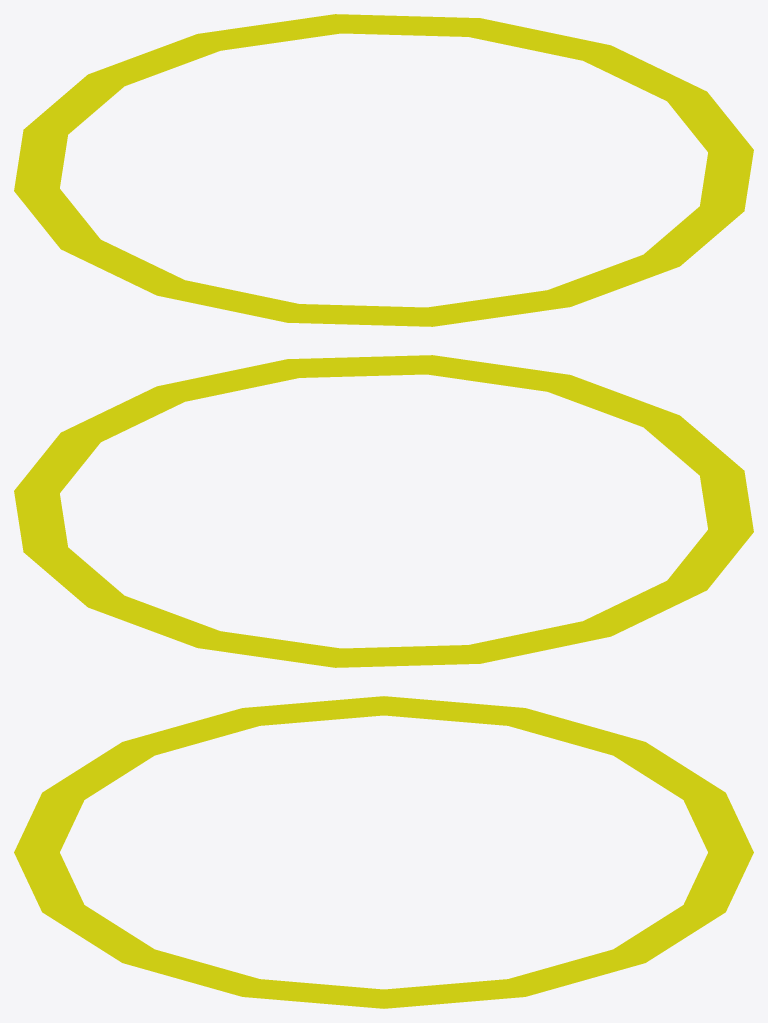
File: interaction_marker.fbx
3 views of the same model, one above another, from view 1: azimuth 30°, elevation 25°; view 2: azimuth 150°, elevation 25°; view 3: azimuth 270°, elevation 25° (orthographic).
Parts seen in each view (by area): view 1: Cylinder.005; view 2: Cylinder.005; view 3: Cylinder.005.
Part boxes in pixels (x1,y1,x2,y2): Cylinder.005: [14, 14, 753, 326]; Cylinder.005: [14, 355, 753, 667]; Cylinder.005: [14, 696, 753, 1008].
Size of the model in its own units: 3.14 by 5.12e-07 by 3.14.
